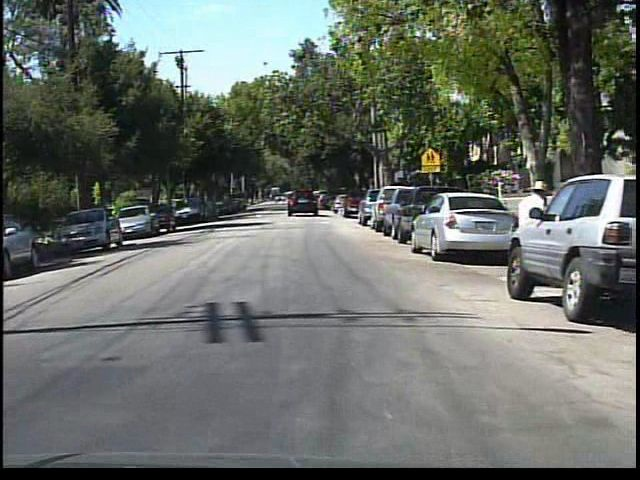person: (510, 177, 553, 297)
